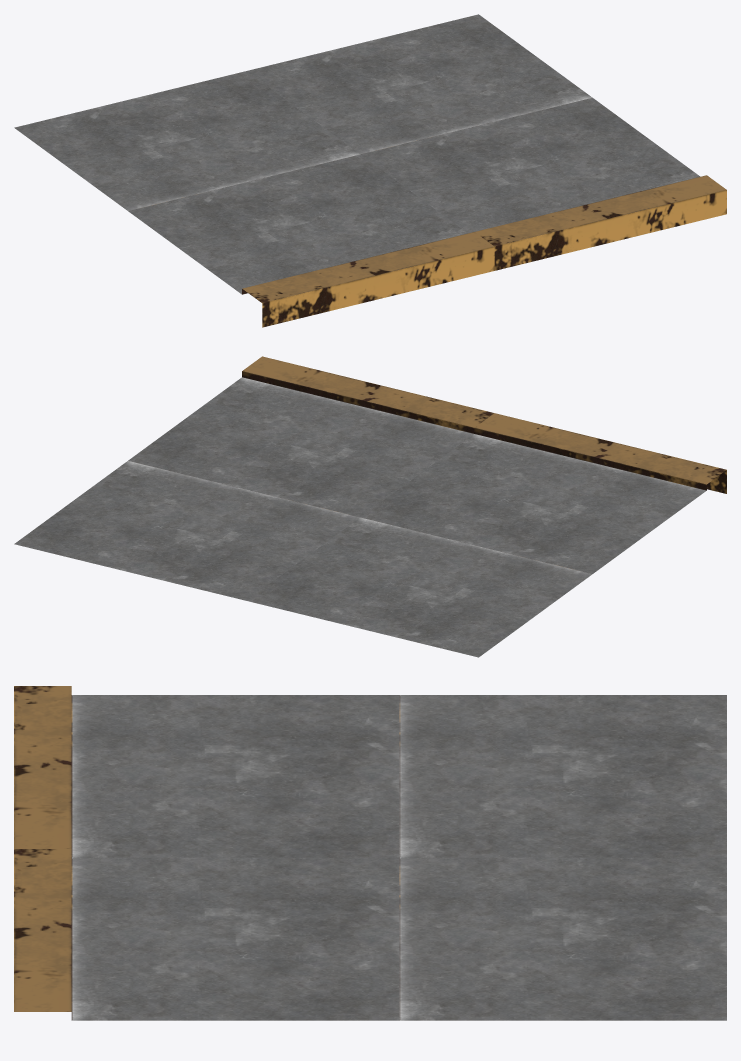
The model's file is Pavement long.fbx.
3 renders of one model, top to bottom at view 1: azimuth 30°, elevation 25°; view 2: azimuth 150°, elevation 25°; view 3: azimuth 270°, elevation 25°, orthographic. The views are drawn at different scales.
Parts seen in each view (by area): view 1: Pavement long; view 2: Pavement long; view 3: Pavement long.
Boxes of the visible parts, left/top/right/bottom form: Pavement long: left=14, top=14, right=726, bottom=327; Pavement long: left=14, top=356, right=726, bottom=657; Pavement long: left=14, top=686, right=726, bottom=1020.
Bounding box in the file's own units: 400 × 20 × 370.
